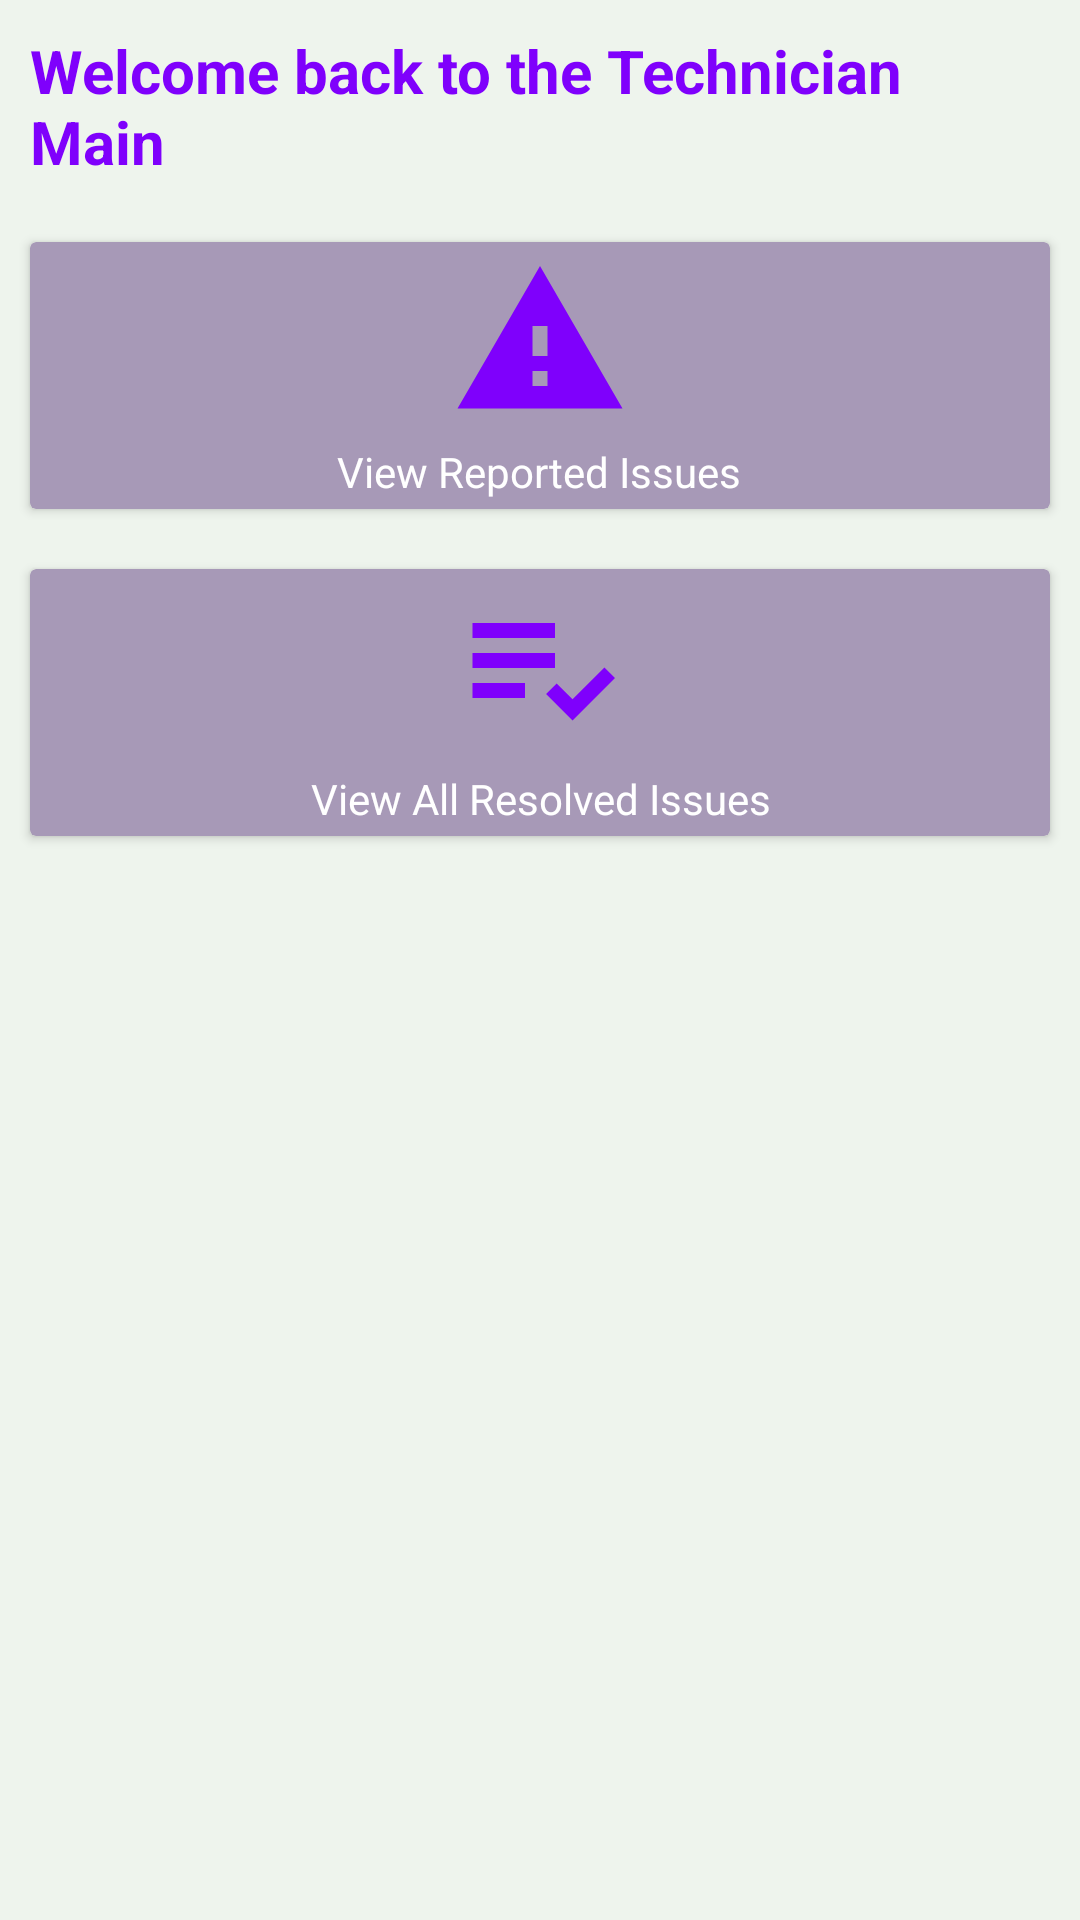

Icons on this 1080px x 1920px Android screen, each with its box as (x1, y1, x2, y2):
report problem: (457, 266, 623, 409)
resolved report: (472, 623, 615, 721)
